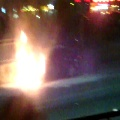fire: (9, 30, 45, 89)
